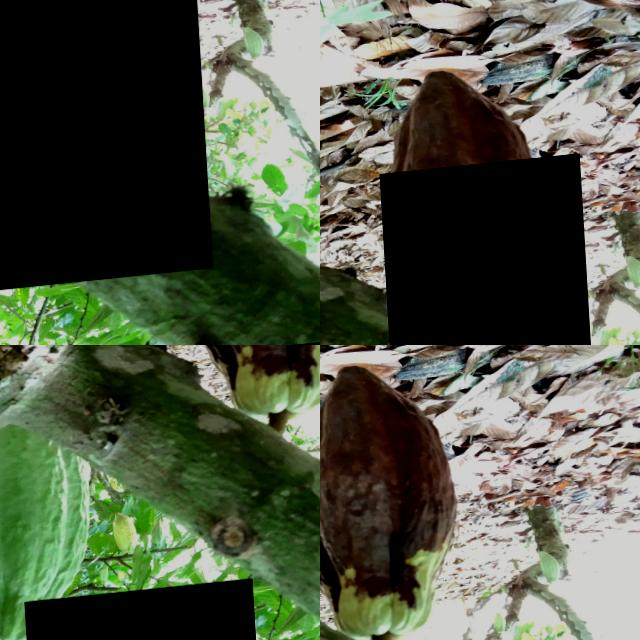Fitoftora: (0, 0, 205, 296), (376, 163, 591, 345), (320, 359, 451, 640)
Monilia: (17, 585, 248, 640)
Sana: (524, 560, 560, 600)
